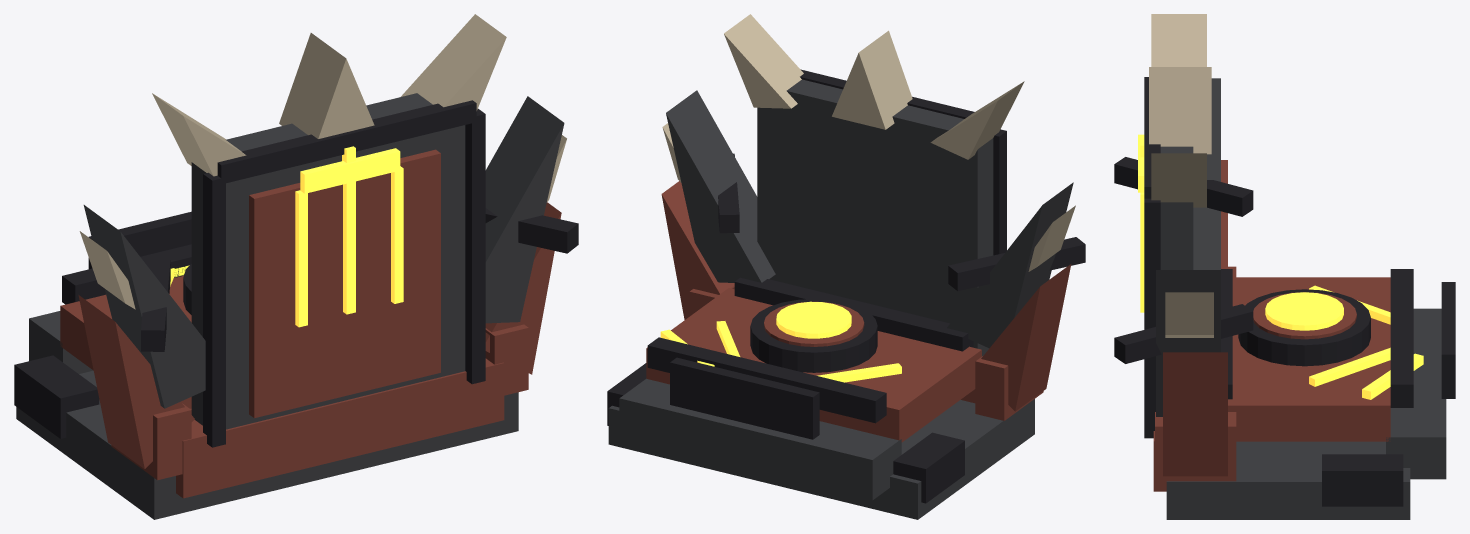
File: SM_INF_WorthinessAltar_A01.fbx
3 views of the same model, side by side, from view 1: azimuth 30°, elevation 25°; view 2: azimuth 150°, elevation 25°; view 3: azimuth 270°, elevation 25° (orthographic). The views are drawn at different scales.
Parts seen in each view (by area): view 1: Backplate_ScorchedStone_InnerBurnPanel, Backplate_CultStone_JudgmentSlab, Base_ScorchedStone_RearStep, Base_CultStone_HeavyPlinth, Wing_Right_CultStone_UpperSlab, Wing_Left_CultStone_UpperSlab, Wing_Left_ScorchedStone_LowerSlab, Backplate_ObsidianIron_TopFrame, Backplate_ObsidianIron_LeftFrame, Crown_Center_BoneHorn_Spear, Backplate_ObsidianIron_RightFrame, Crown_Right_BoneHorn_Hook (+16 smaller); view 2: Backplate_CultStone_JudgmentSlab, Base_CultStone_FrontStep, TopSlab_ScorchedStone_OfferingDeck, Wing_Right_CultStone_UpperSlab, Base_CultStone_HeavyPlinth, Front_ObsidianIron_InteractionPlate, Wing_Left_CultStone_UpperSlab, Wing_Left_ScorchedStone_LowerSlab, TopSlab_ObsidianIron_FrontLip, Crown_Center_BoneHorn_Spear, Basin_ObsidianIron_OfferingRim, Crown_Right_BoneHorn_Hook (+14 smaller); view 3: TopSlab_ScorchedStone_OfferingDeck, Base_CultStone_HeavyPlinth, Wing_Right_ScorchedStone_LowerSlab, Base_CultStone_FrontStep, Crown_Center_BoneHorn_Spear, Basin_ObsidianIron_OfferingRim, Base_Right_ObsidianIron_ClawFoot, Wing_Right_CultStone_UpperSlab, TopSlab_ObsidianIron_FrontLip, Crown_Left_BoneHorn_Hook, Wing_Left_CultStone_UpperSlab, Backplate_ObsidianIron_RightFrame (+15 smaller).
Boxes of the visible parts, x1,y1,x2,y2 form: Backplate_ScorchedStone_InnerBurnPanel: (249,149,440,418); Backplate_CultStone_JudgmentSlab: (191,93,465,429); Base_ScorchedStone_RearStep: (176,358,504,498); Base_CultStone_HeavyPlinth: (16,370,518,519); Wing_Right_CultStone_UpperSlab: (451,96,564,324); Wing_Left_CultStone_UpperSlab: (83,205,232,408); Wing_Left_ScorchedStone_LowerSlab: (78,295,194,468); Backplate_ObsidianIron_TopFrame: (217,100,476,183); Backplate_ObsidianIron_LeftFrame: (203,172,225,447); Crown_Center_BoneHorn_Spear: (279,33,374,138); Backplate_ObsidianIron_RightFrame: (465,108,485,384); Crown_Right_BoneHorn_Hook: (401,14,506,110); Backplate_CultStone_JudgmentSlab: (757,79,993,356); Base_CultStone_FrontStep: (619,378,901,500); TopSlab_ScorchedStone_OfferingDeck: (646,288,981,442); Wing_Right_CultStone_UpperSlab: (666,90,775,282); Base_CultStone_HeavyPlinth: (608,399,1034,519); Front_ObsidianIron_InteractionPlate: (670,357,819,439); Wing_Left_CultStone_UpperSlab: (947,182,1073,348); Wing_Left_ScorchedStone_LowerSlab: (981,264,1071,411); TopSlab_ObsidianIron_FrontLip: (647,337,886,423); Crown_Center_BoneHorn_Spear: (832,30,912,129); Basin_ObsidianIron_OfferingRim: (750,299,877,372); Crown_Right_BoneHorn_Hook: (724,14,803,108); TopSlab_ScorchedStone_OfferingDeck: (1228,277,1390,441); Base_CultStone_HeavyPlinth: (1166,441,1410,519); Wing_Right_ScorchedStone_LowerSlab: (1163,352,1227,476); Base_CultStone_FrontStep: (1386,308,1446,479); Crown_Center_BoneHorn_Spear: (1149,67,1211,154); Basin_ObsidianIron_OfferingRim: (1238,289,1370,366); Base_Right_ObsidianIron_ClawFoot: (1322,454,1403,506); Wing_Right_CultStone_UpperSlab: (1156,270,1220,416); TopSlab_ObsidianIron_FrontLip: (1390,269,1413,407); Crown_Left_BoneHorn_Hook: (1151,14,1206,66); Wing_Left_CultStone_UpperSlab: (1193,78,1220,269); Backplate_ObsidianIron_RightFrame: (1144,198,1160,438).
Size of what is drawn, in the model's own units: 29389 by 40400 by 35600.
